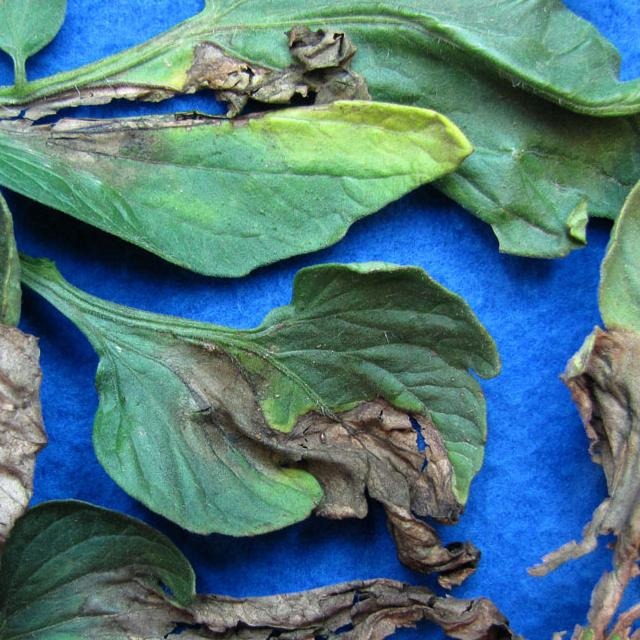Tomato leaf late blight: (43, 256, 514, 536), (0, 0, 446, 271), (0, 493, 509, 640), (538, 14, 640, 640), (0, 0, 51, 633)
